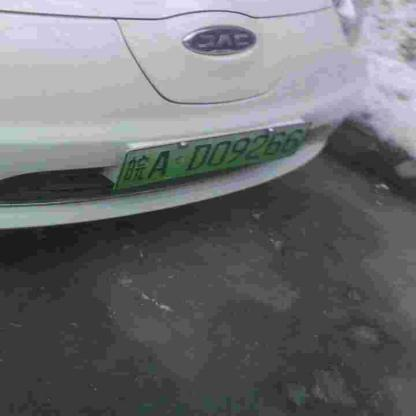lp: (115, 124, 309, 190)
